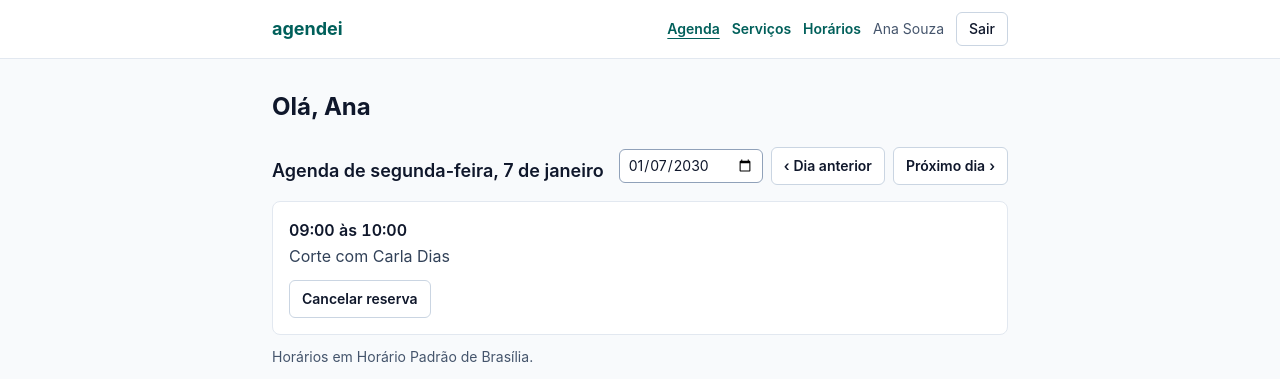
Scenario: agenda do prestador › passa para o dia seguinte e volta para hoje
This screenshot has width=1280, height=379.
Click the button "Próximo dia ›". click: (950, 166)
box: [893,147,1008,185]
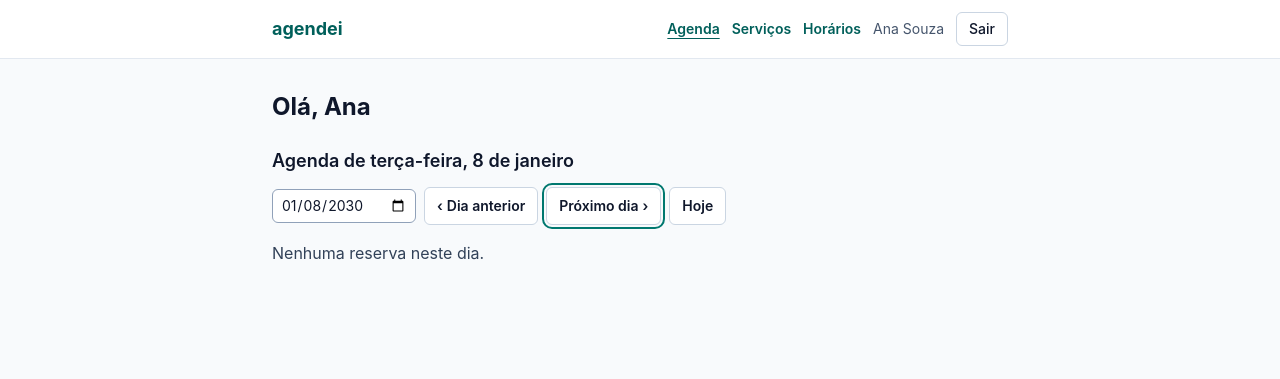
Expected: the heading "Agenda de terça-feira, 8 de janeiro" is shown, [272,147,574,175]
Expected: the text "Nenhuma reserva neste dia." is shown, [272,243,484,263]
Expected: the date field named "Dia" holds "2030-01-08", [272,189,416,223]
Click the button "Hoje". click: (698, 206)
box: [669,187,726,225]
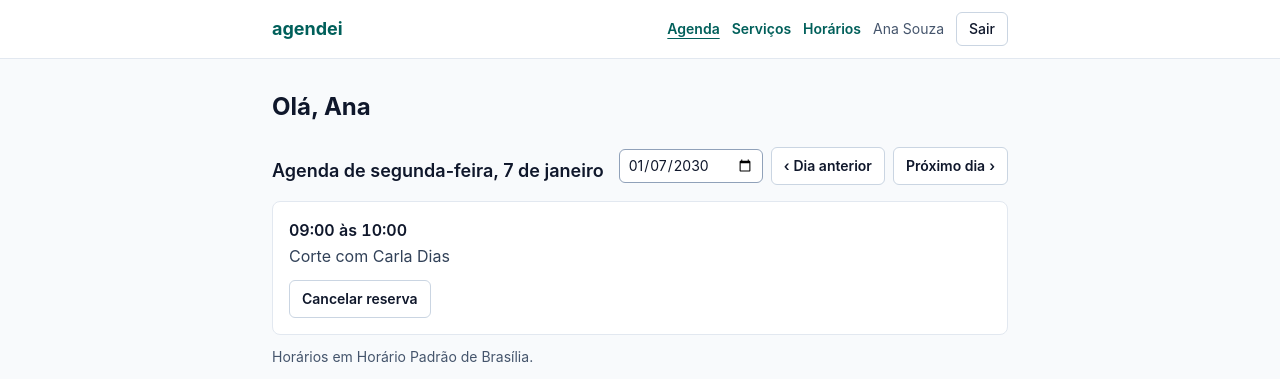
Expected: the text "Corte com Carla Dias" is shown, [289,246,450,266]
Expected: the button "Hoje" is gone
